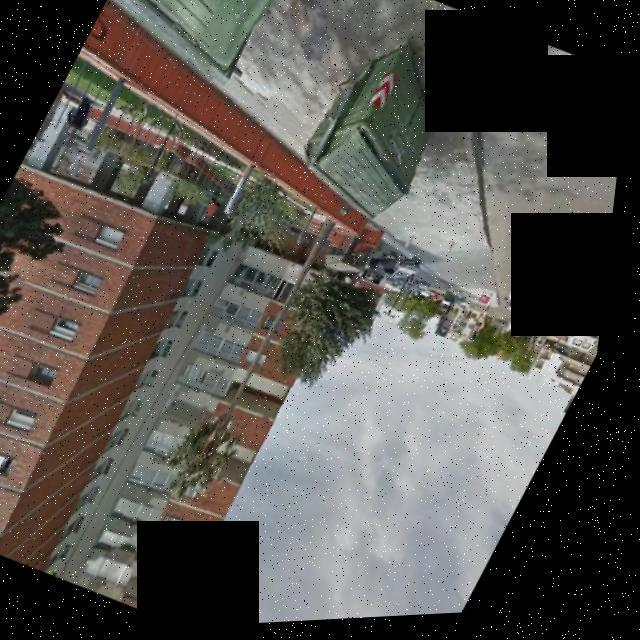bin: (273, 13, 497, 247), (82, 0, 314, 103)
